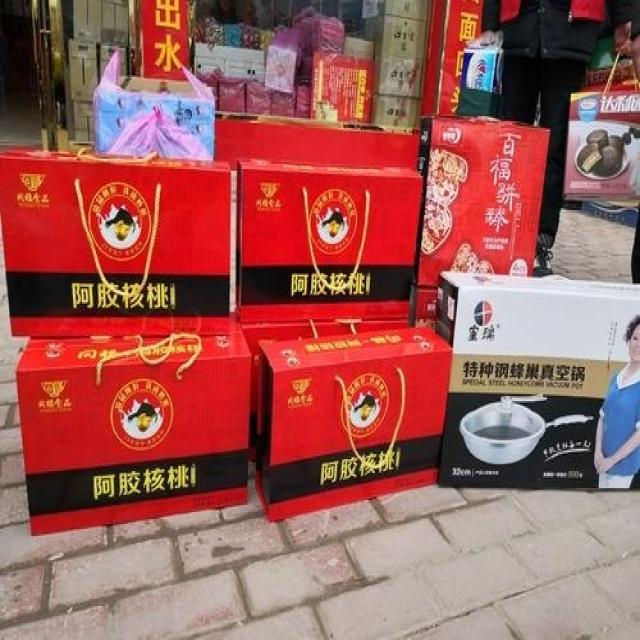box: (15, 312, 252, 536), (435, 271, 640, 490), (0, 147, 230, 336), (253, 326, 452, 524), (234, 160, 422, 324), (413, 114, 550, 288), (241, 319, 408, 461), (563, 92, 640, 203), (364, 15, 426, 60), (374, 56, 424, 99), (461, 48, 504, 94), (68, 41, 97, 102), (370, 94, 419, 126), (362, 0, 430, 22), (410, 283, 436, 331), (101, 0, 128, 46), (73, 0, 101, 43), (99, 43, 128, 82), (73, 102, 95, 140), (343, 38, 375, 60)
